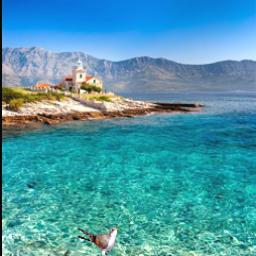Cuckoo: (77, 226, 119, 256)
